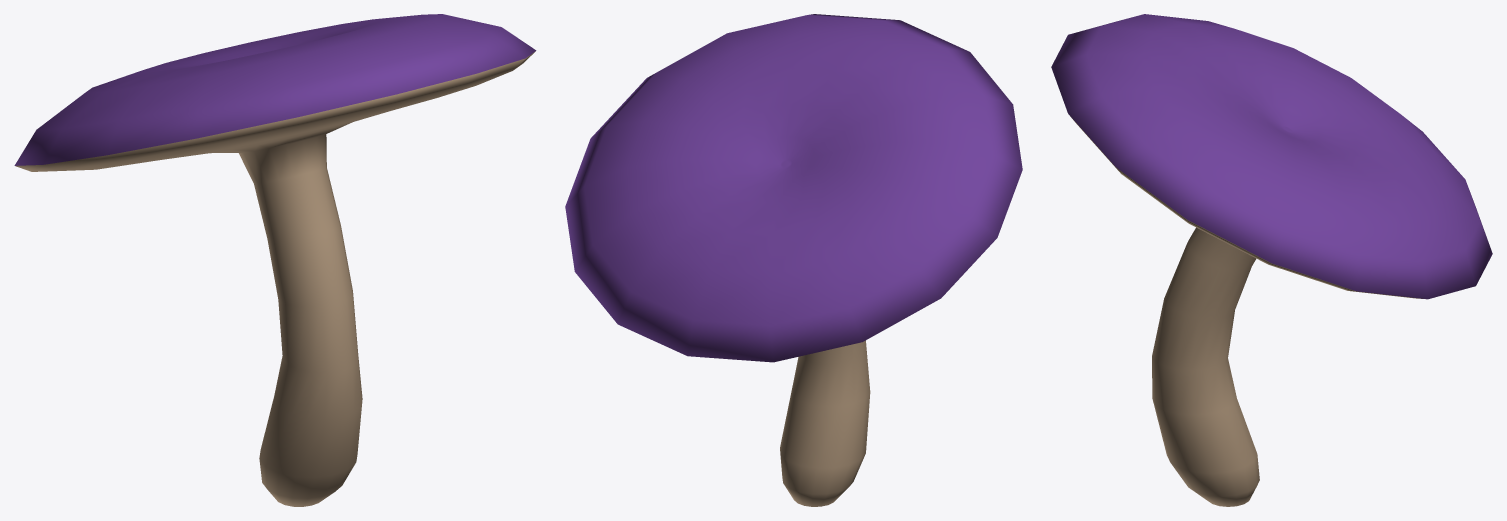
File: Seta4.fbx
3 views of the same model, side by side, from view 1: azimuth 30°, elevation 25°; view 2: azimuth 150°, elevation 25°; view 3: azimuth 270°, elevation 25° (orthographic). The views are drawn at different scales.
Visible parts, largest first — view 1: BezierCurve; view 2: BezierCurve; view 3: BezierCurve.
Boxes of the visible parts, bbox=[...] form: BezierCurve: bbox=[14, 14, 536, 506]; BezierCurve: bbox=[565, 14, 1022, 506]; BezierCurve: bbox=[1051, 14, 1492, 506].
Size of the model in its own units: 0.5189 by 0.4702 by 0.5205.
